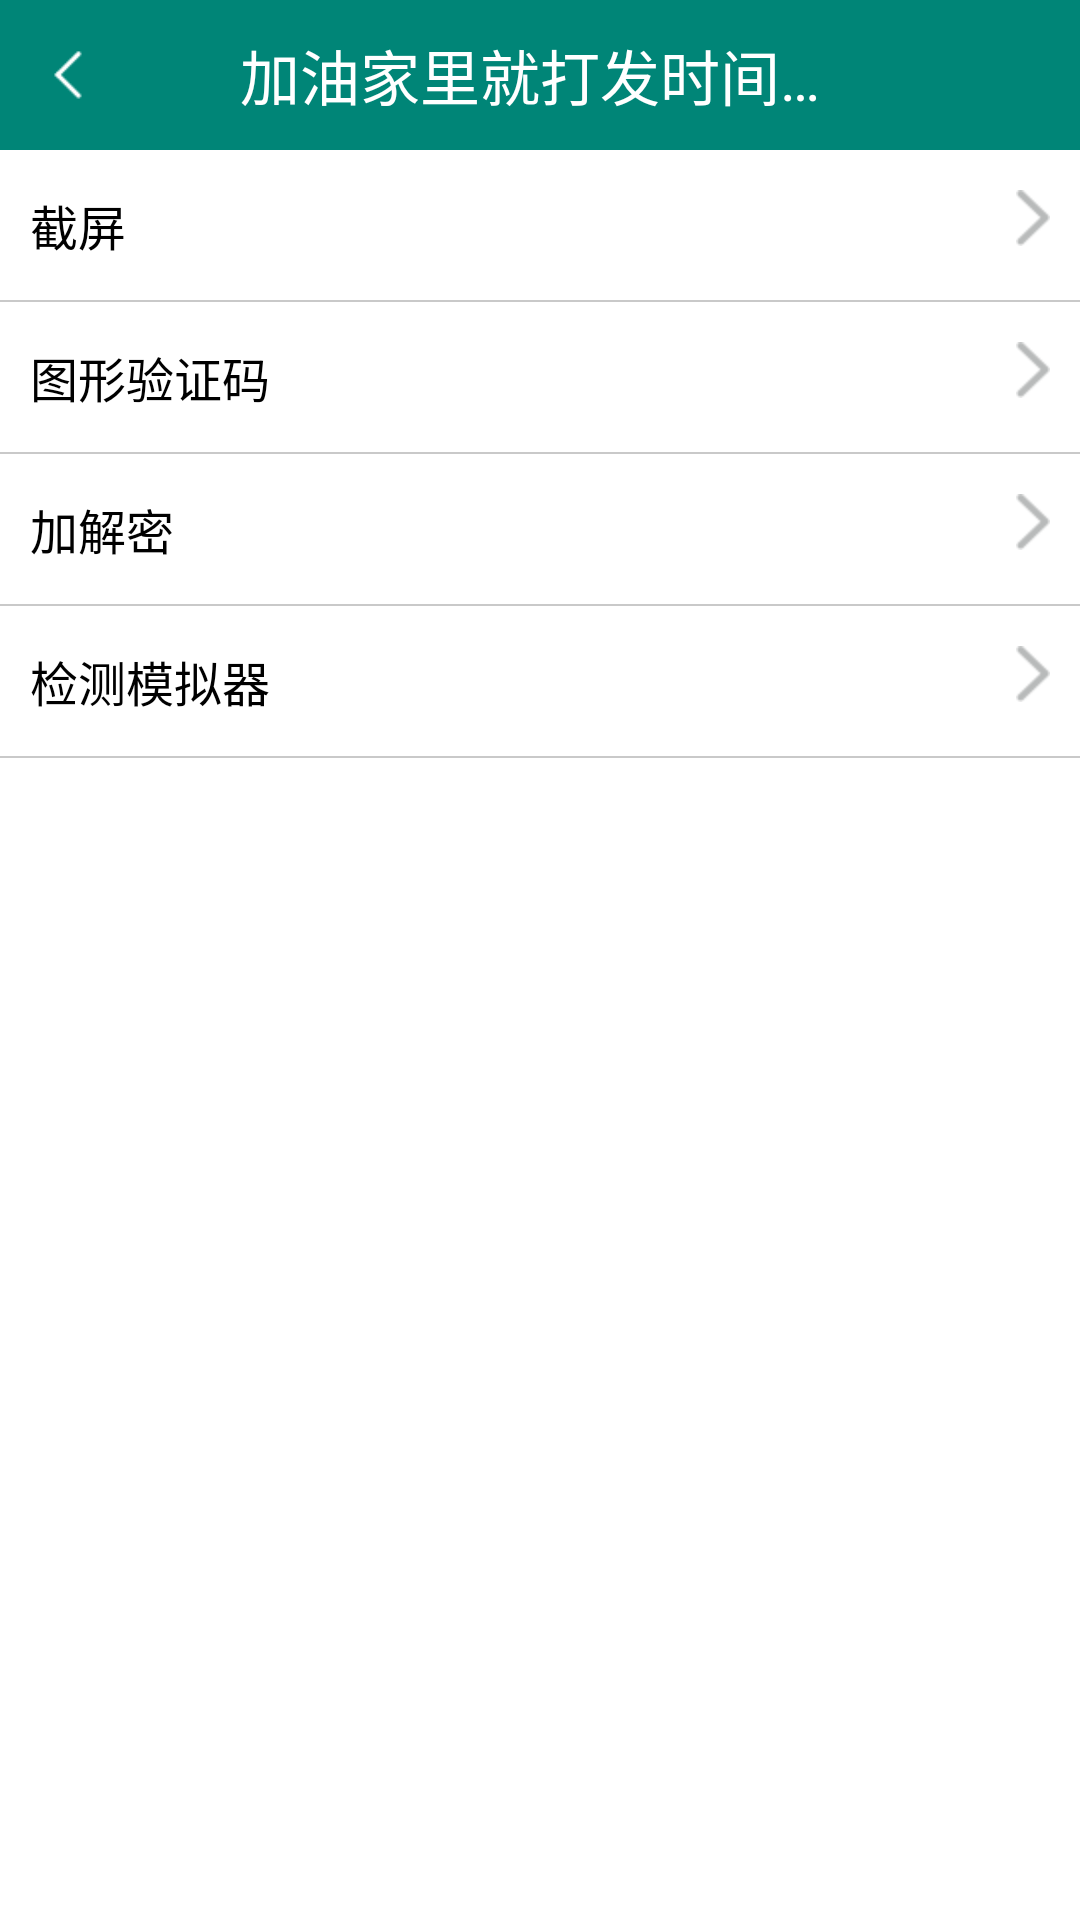

Where icons sit on this 1080 x 1920 app screen, as (x1, y1, x2, y2):
arrow right: (1016, 190, 1050, 245), (1016, 342, 1050, 397), (1016, 494, 1050, 549), (1016, 646, 1050, 701)
back: (54, 51, 82, 99)
